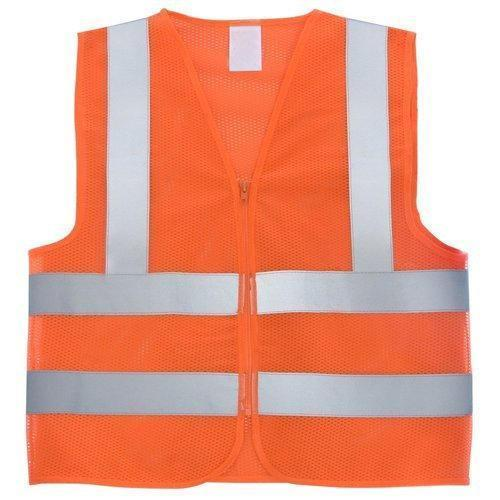vest: (21, 8, 476, 488)
